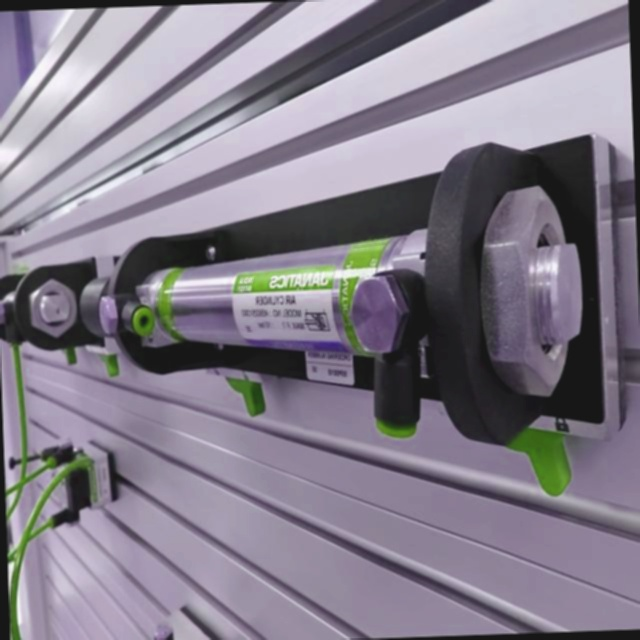double acting pneumatic cylinder: (69, 96, 623, 526)
